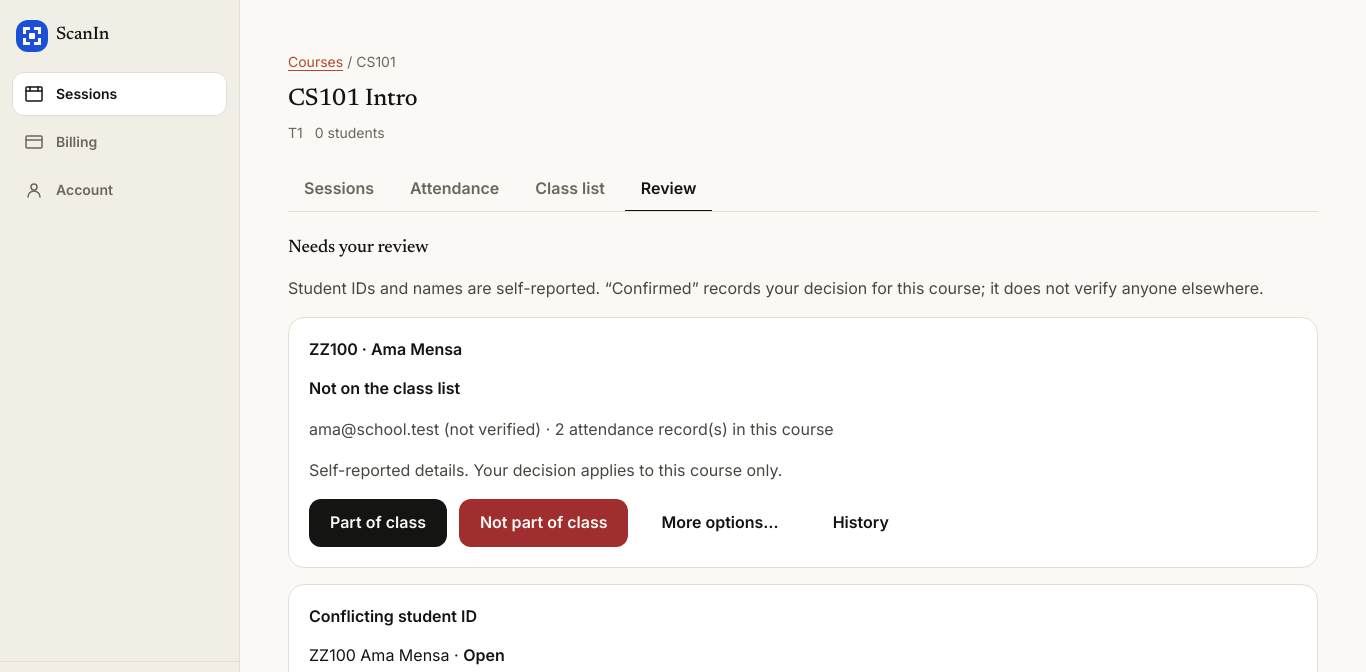
Test: review queue › shows a match's history with who decided what and why
Click the button "History": (861, 523) x1=812 y1=499 x2=910 y2=547
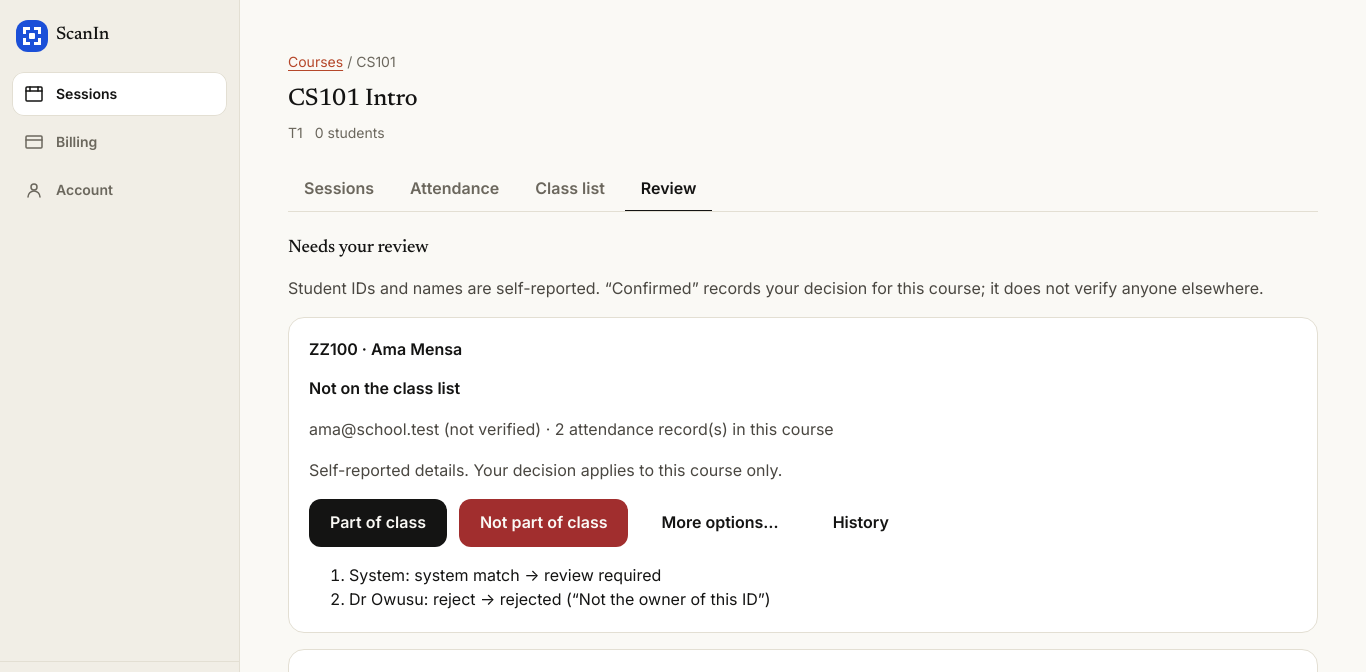
Expected: the list named "match history" shows "System: system match → review required", x1=349 y1=565 x2=661 y2=585
Expected: the list named "match history" shows "Dr Owusu: reject → rejected (“Not the owner of this ID”)", x1=349 y1=589 x2=771 y2=609
